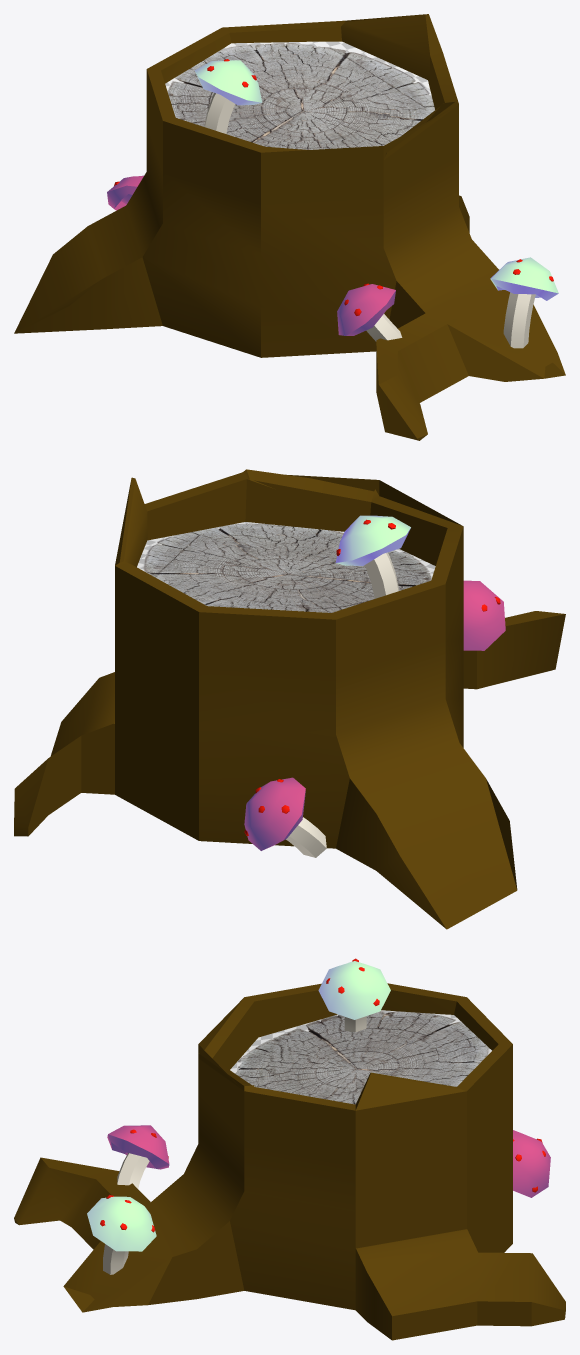
Rendered from TreeStump.fbx.
The picture shows the model from 3 angles, top to bottom: view 1: azimuth 30°, elevation 25°; view 2: azimuth 150°, elevation 25°; view 3: azimuth 270°, elevation 25°; orthographic projection. The views are drawn at different scales.
Visible parts, largest first — view 1: Bark, inside, Cap_3, Cap_4, Cap_2, stem_2, stem_4, Cap, stem_3; view 2: Bark, inside, Cap, Cap_4, Cap_3, stem_4, stem; view 3: Bark, inside, Cap_4, Cap_2, Cap, Cap_3, stem_3, stem_2.
Boxes of the visible parts, left/top/right/bottom form: Bark: left=14, top=14, right=565, bottom=440; inside: left=165, top=41, right=434, bottom=149; Cap_3: left=337, top=284, right=395, bottom=335; Cap_4: left=194, top=60, right=262, bottom=105; Cap_2: left=490, top=257, right=558, bottom=300; stem_2: left=503, top=292, right=535, bottom=348; stem_4: left=204, top=93, right=235, bottom=133; Cap: left=107, top=175, right=143, bottom=210; stem_3: left=366, top=314, right=402, bottom=341; Bark: left=14, top=469, right=565, bottom=929; inside: left=137, top=522, right=435, bottom=612; Cap: left=244, top=777, right=305, bottom=850; Cap_4: left=335, top=515, right=410, bottom=565; Cap_3: left=463, top=580, right=505, bottom=650; stem_4: left=364, top=552, right=399, bottom=598; stem: left=286, top=817, right=326, bottom=857; Bark: left=14, top=983, right=565, bottom=1340; inside: left=230, top=1010, right=491, bottom=1104; Cap_4: left=318, top=961, right=390, bottom=1019; Cap_2: left=87, top=1196, right=156, bottom=1251; Cap: left=513, top=1130, right=550, bottom=1197; Cap_3: left=107, top=1125, right=169, bottom=1169; stem_3: left=117, top=1153, right=149, bottom=1188; stem_2: left=103, top=1244, right=128, bottom=1274.
Size of the model in its own units: 154 by 96.82 by 175.
Materials: 6 (1 with a texture image).
